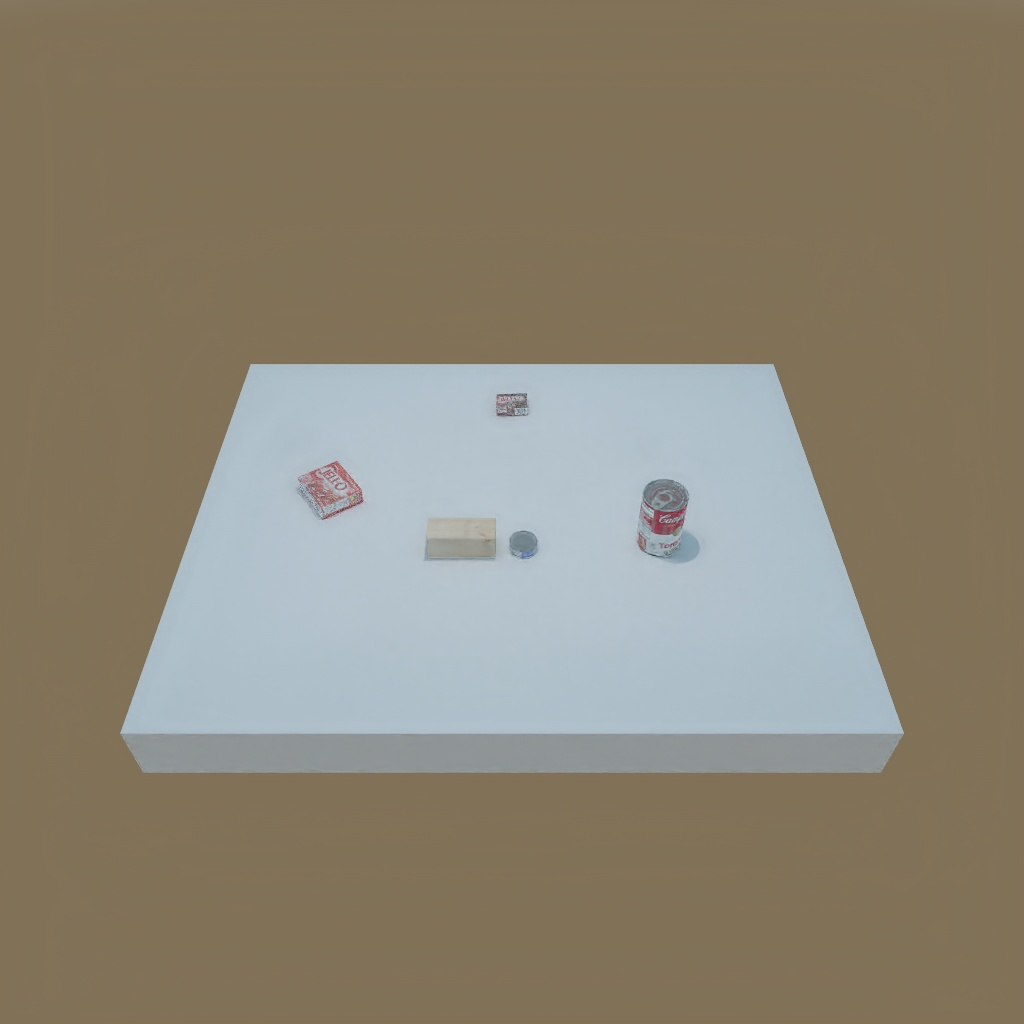gelatin_box: (296, 460, 365, 517)
pudding_box: (491, 389, 534, 418)
tomato_soup_can: (631, 473, 689, 557)
wood_block: (422, 516, 498, 561)
